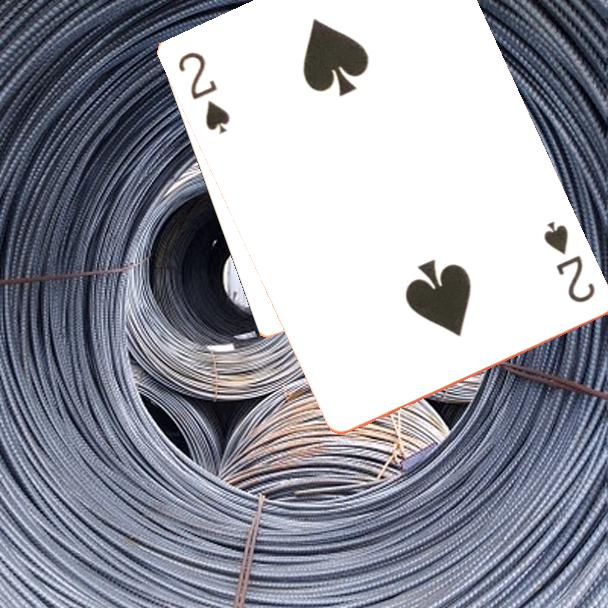s02: (540, 217, 599, 306), (175, 48, 234, 137)
